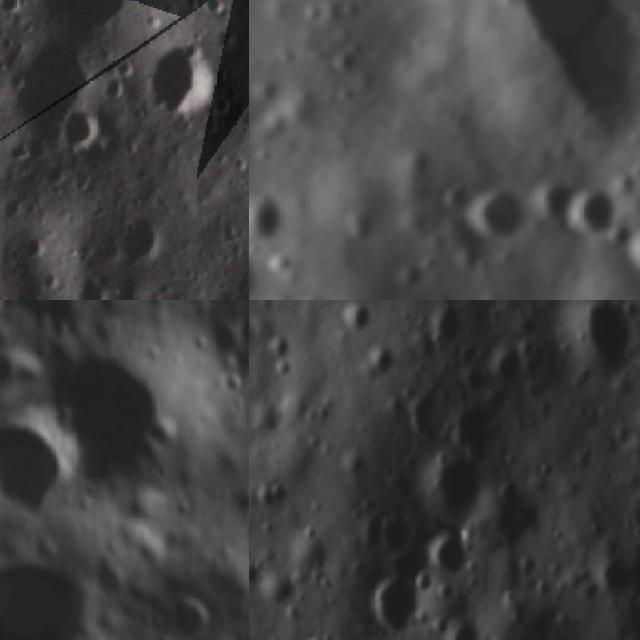crater: (0, 497, 249, 640), (455, 0, 640, 159), (27, 334, 188, 497), (0, 387, 84, 530), (548, 154, 634, 241), (452, 172, 539, 255), (559, 300, 640, 388), (418, 447, 496, 528), (441, 389, 510, 461), (514, 156, 583, 225), (358, 573, 424, 640), (152, 50, 217, 116), (158, 582, 219, 640), (249, 175, 295, 246), (119, 216, 173, 268), (31, 300, 102, 339), (425, 526, 471, 584), (330, 300, 384, 349), (257, 563, 308, 612), (55, 104, 109, 150), (136, 408, 182, 460), (358, 343, 407, 390), (614, 207, 640, 290), (84, 557, 128, 600), (198, 311, 238, 358), (218, 593, 249, 634), (207, 365, 241, 400), (223, 480, 249, 523), (443, 614, 486, 640), (0, 345, 22, 394), (177, 300, 226, 311), (145, 630, 181, 640), (79, 630, 115, 640), (108, 300, 150, 306)
